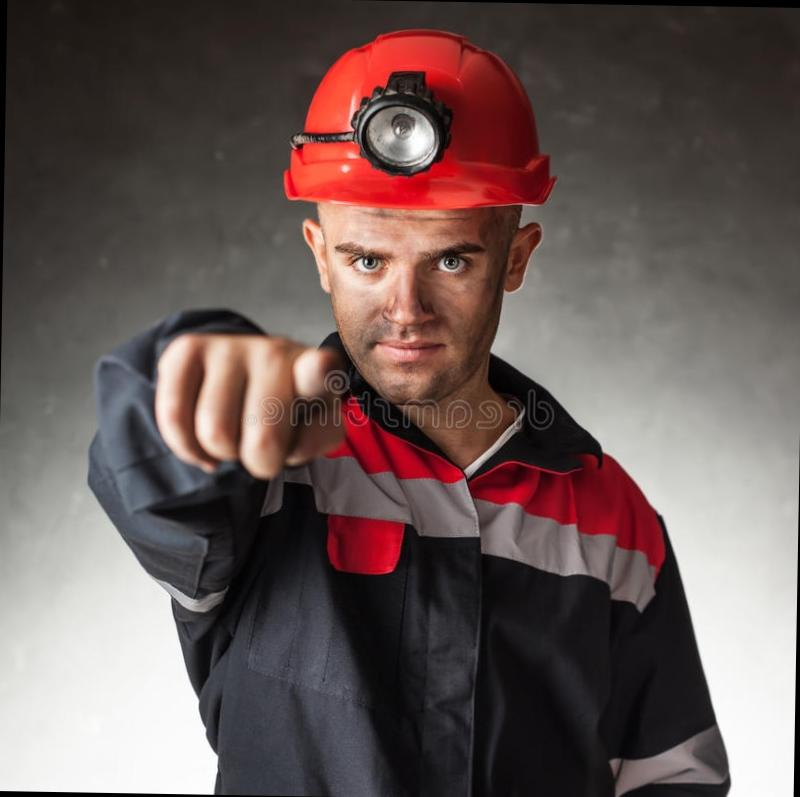helmet: (281, 19, 568, 228)
wear: (199, 414, 679, 797)
